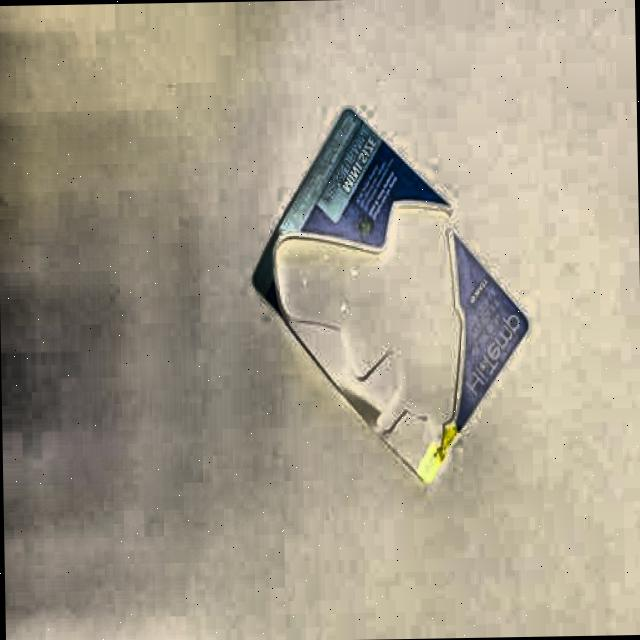paper: (247, 98, 532, 487)
